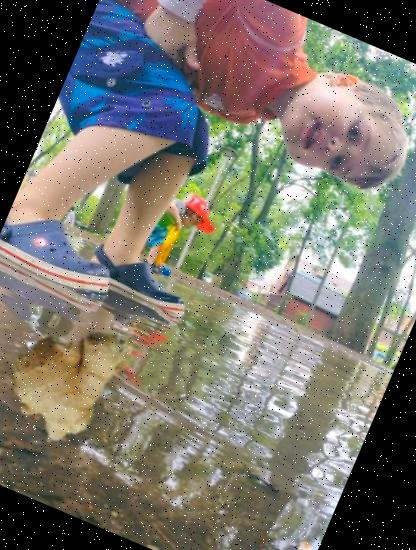Ginger: (0, 291, 163, 465)
